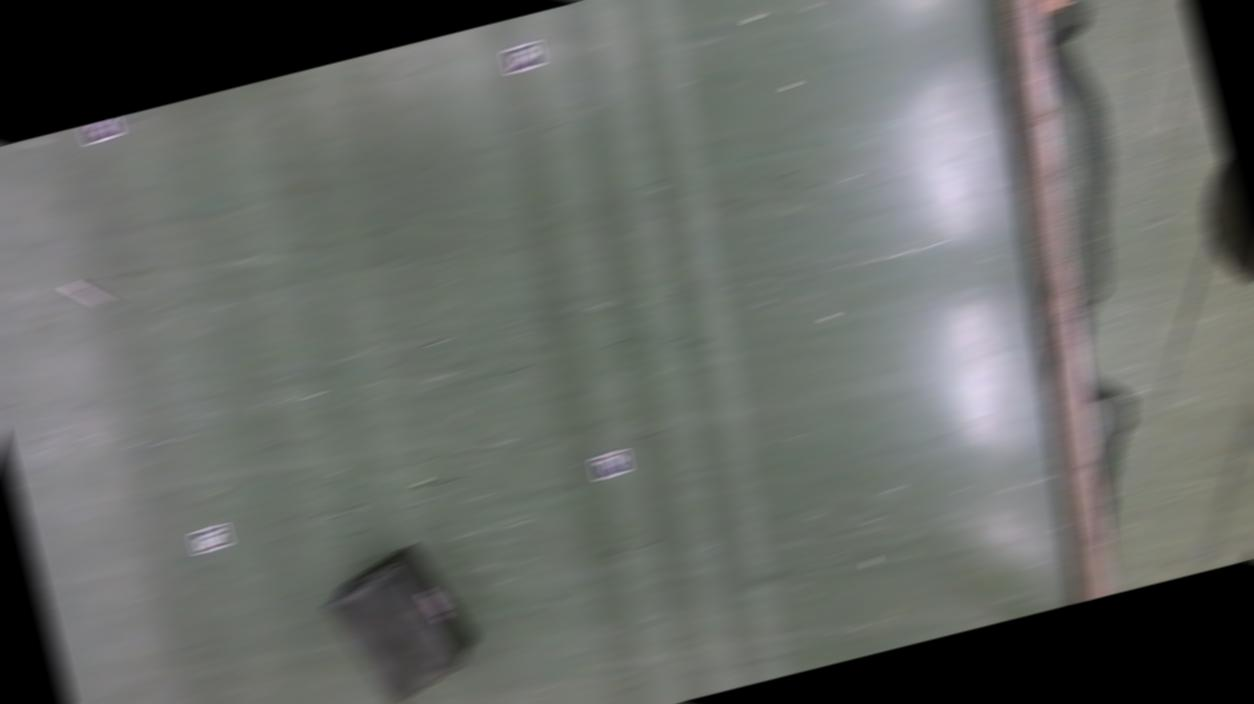probes: (62, 275, 112, 315)
rako: (313, 533, 487, 703)
